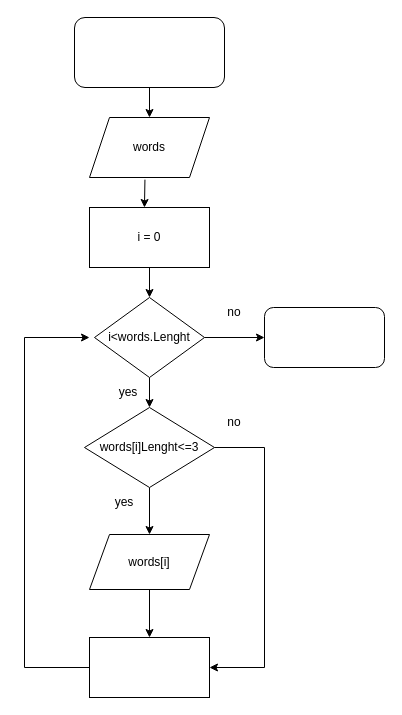
The diagram is 402 pixels wide and 715 high, and some of its shapes have lost their labels. Each missing label, with the centre of its shape:
end: pixel 324 337
i++: pixel 149 667
start: pixel 149 52
